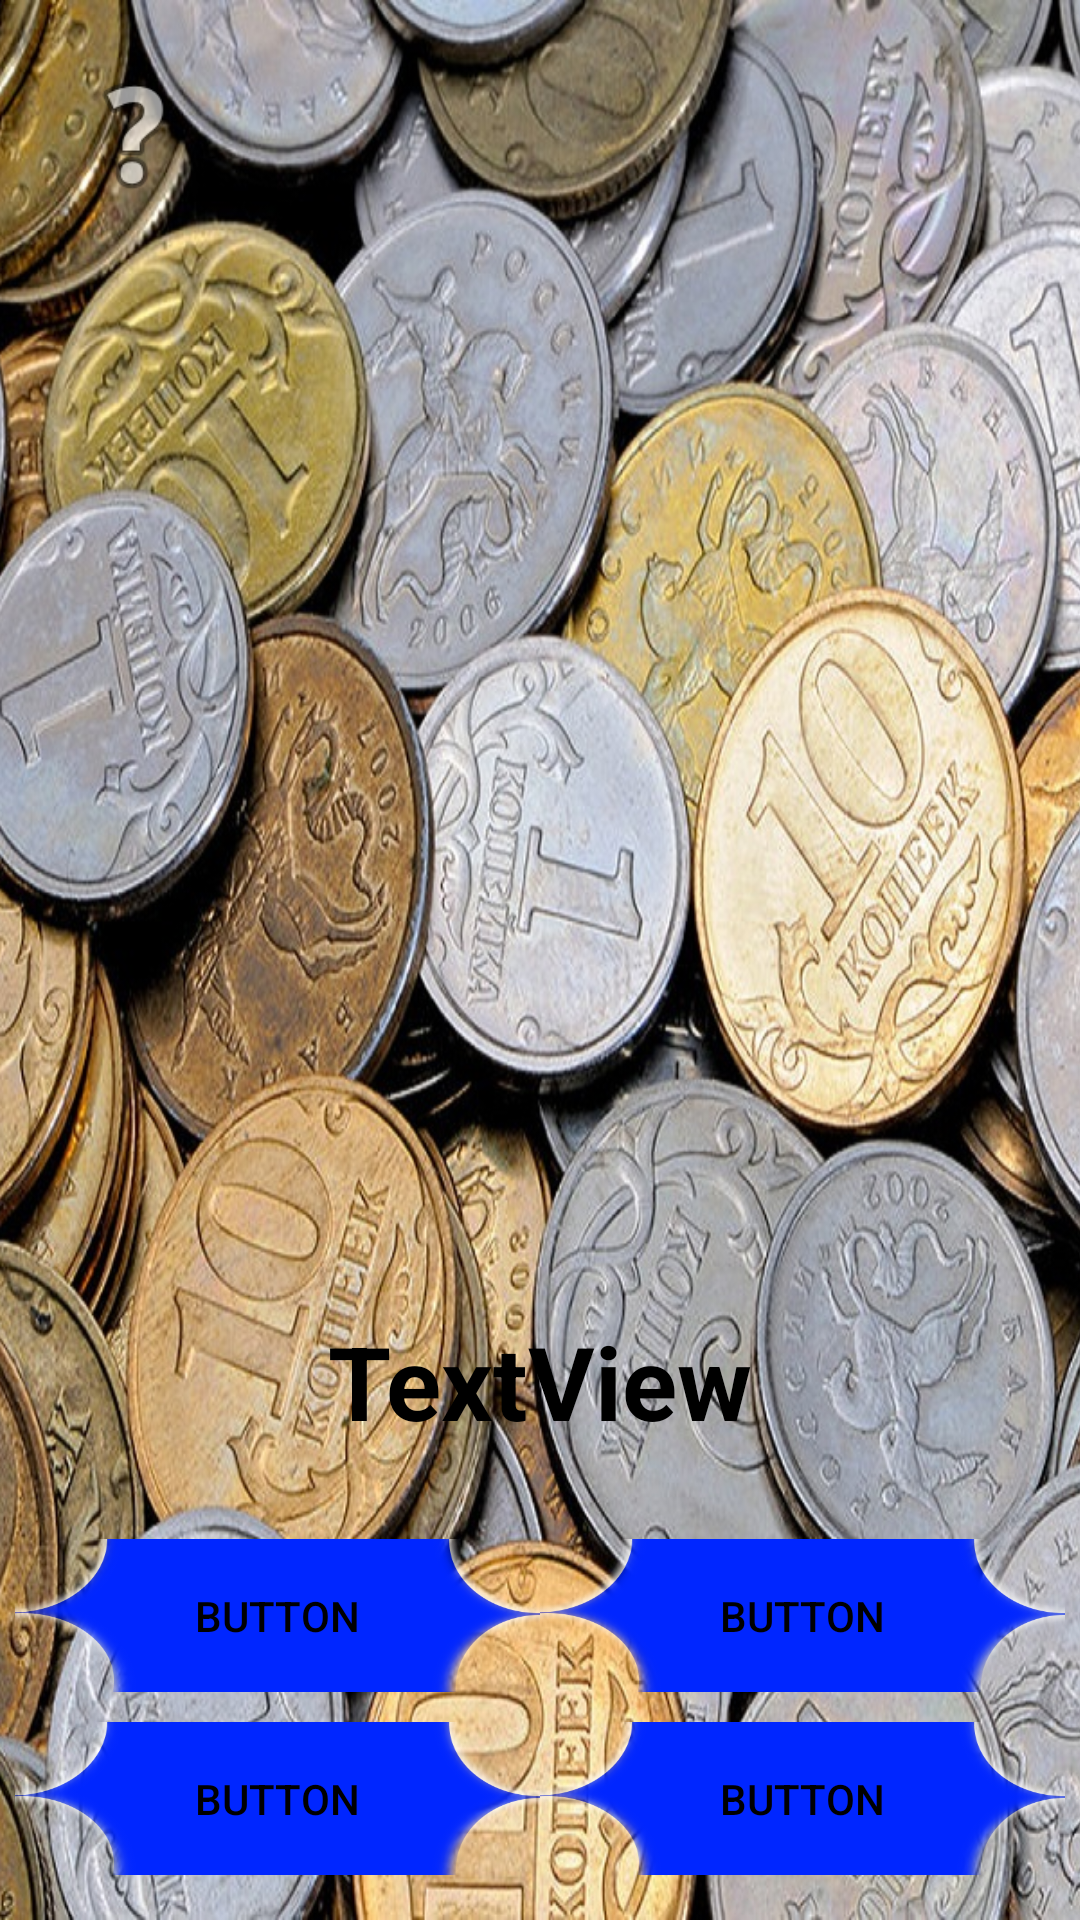

Where to tap for icons on this 1080w x 1920h app screen, as (x,y):
help: (135,135)
